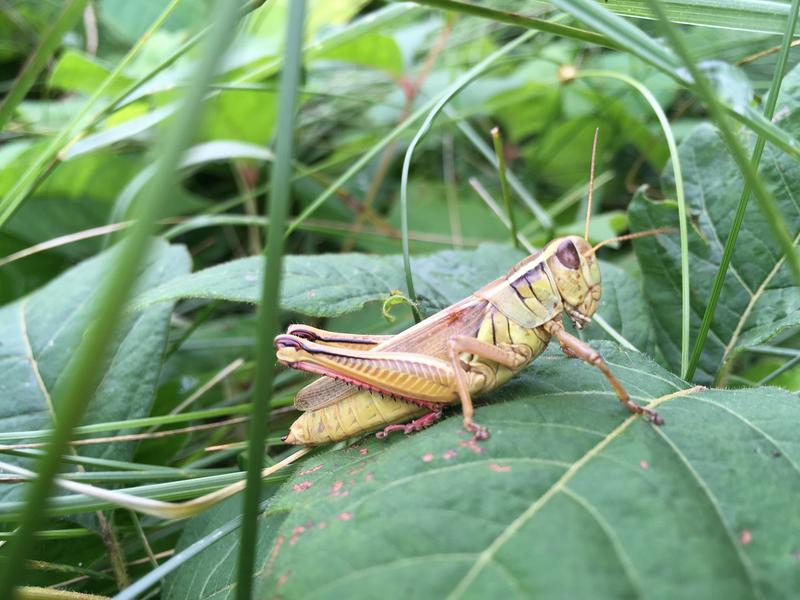Grasshopper: (268, 219, 616, 464)
